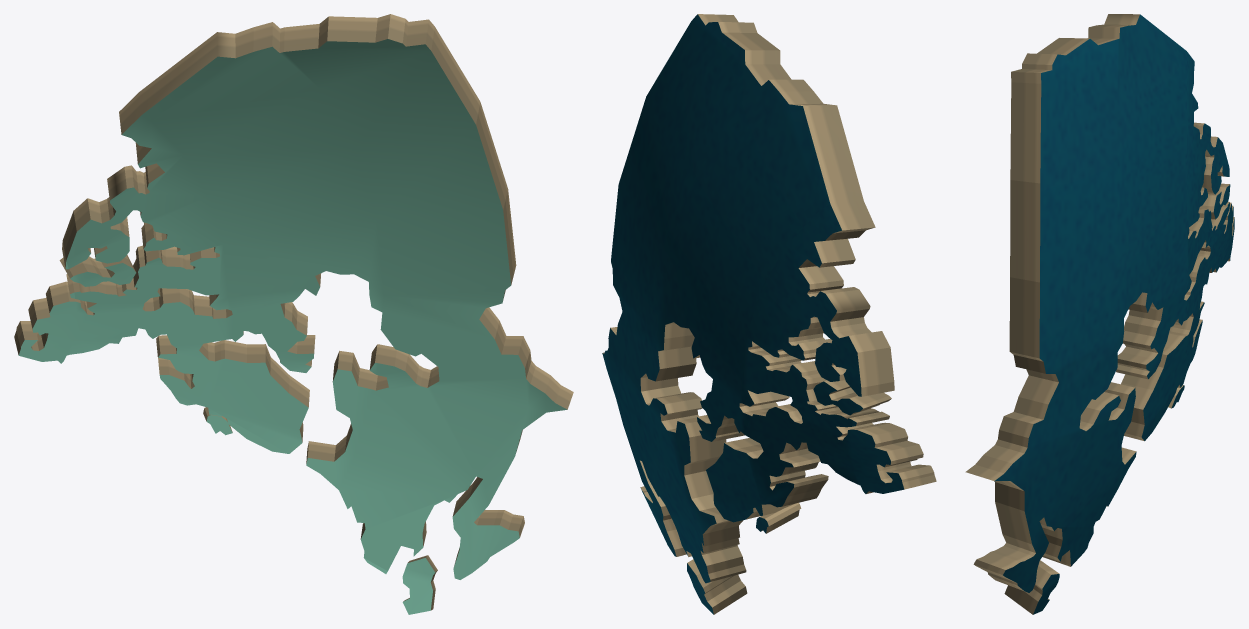
The model's file is 05df_Canada.glb.
The picture shows the model from 3 angles, left to right: view 1: azimuth 30°, elevation 25°; view 2: azimuth 150°, elevation 25°; view 3: azimuth 270°, elevation 25°; orthographic projection. The views are drawn at different scales.
Visible parts, largest first — view 1: part_0; view 2: part_0; view 3: part_0.
Boxes of the visible parts, bbox=[...] form: part_0: bbox=[14, 14, 573, 614]; part_0: bbox=[602, 14, 936, 614]; part_0: bbox=[965, 14, 1234, 614].
Bounding box in the file's own units: 2.54 × 3.26 × 1.45.
1 material, 1 textured.
